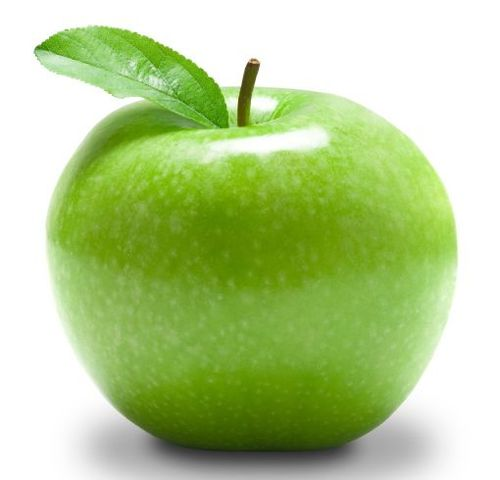apple: (23, 27, 463, 457)
